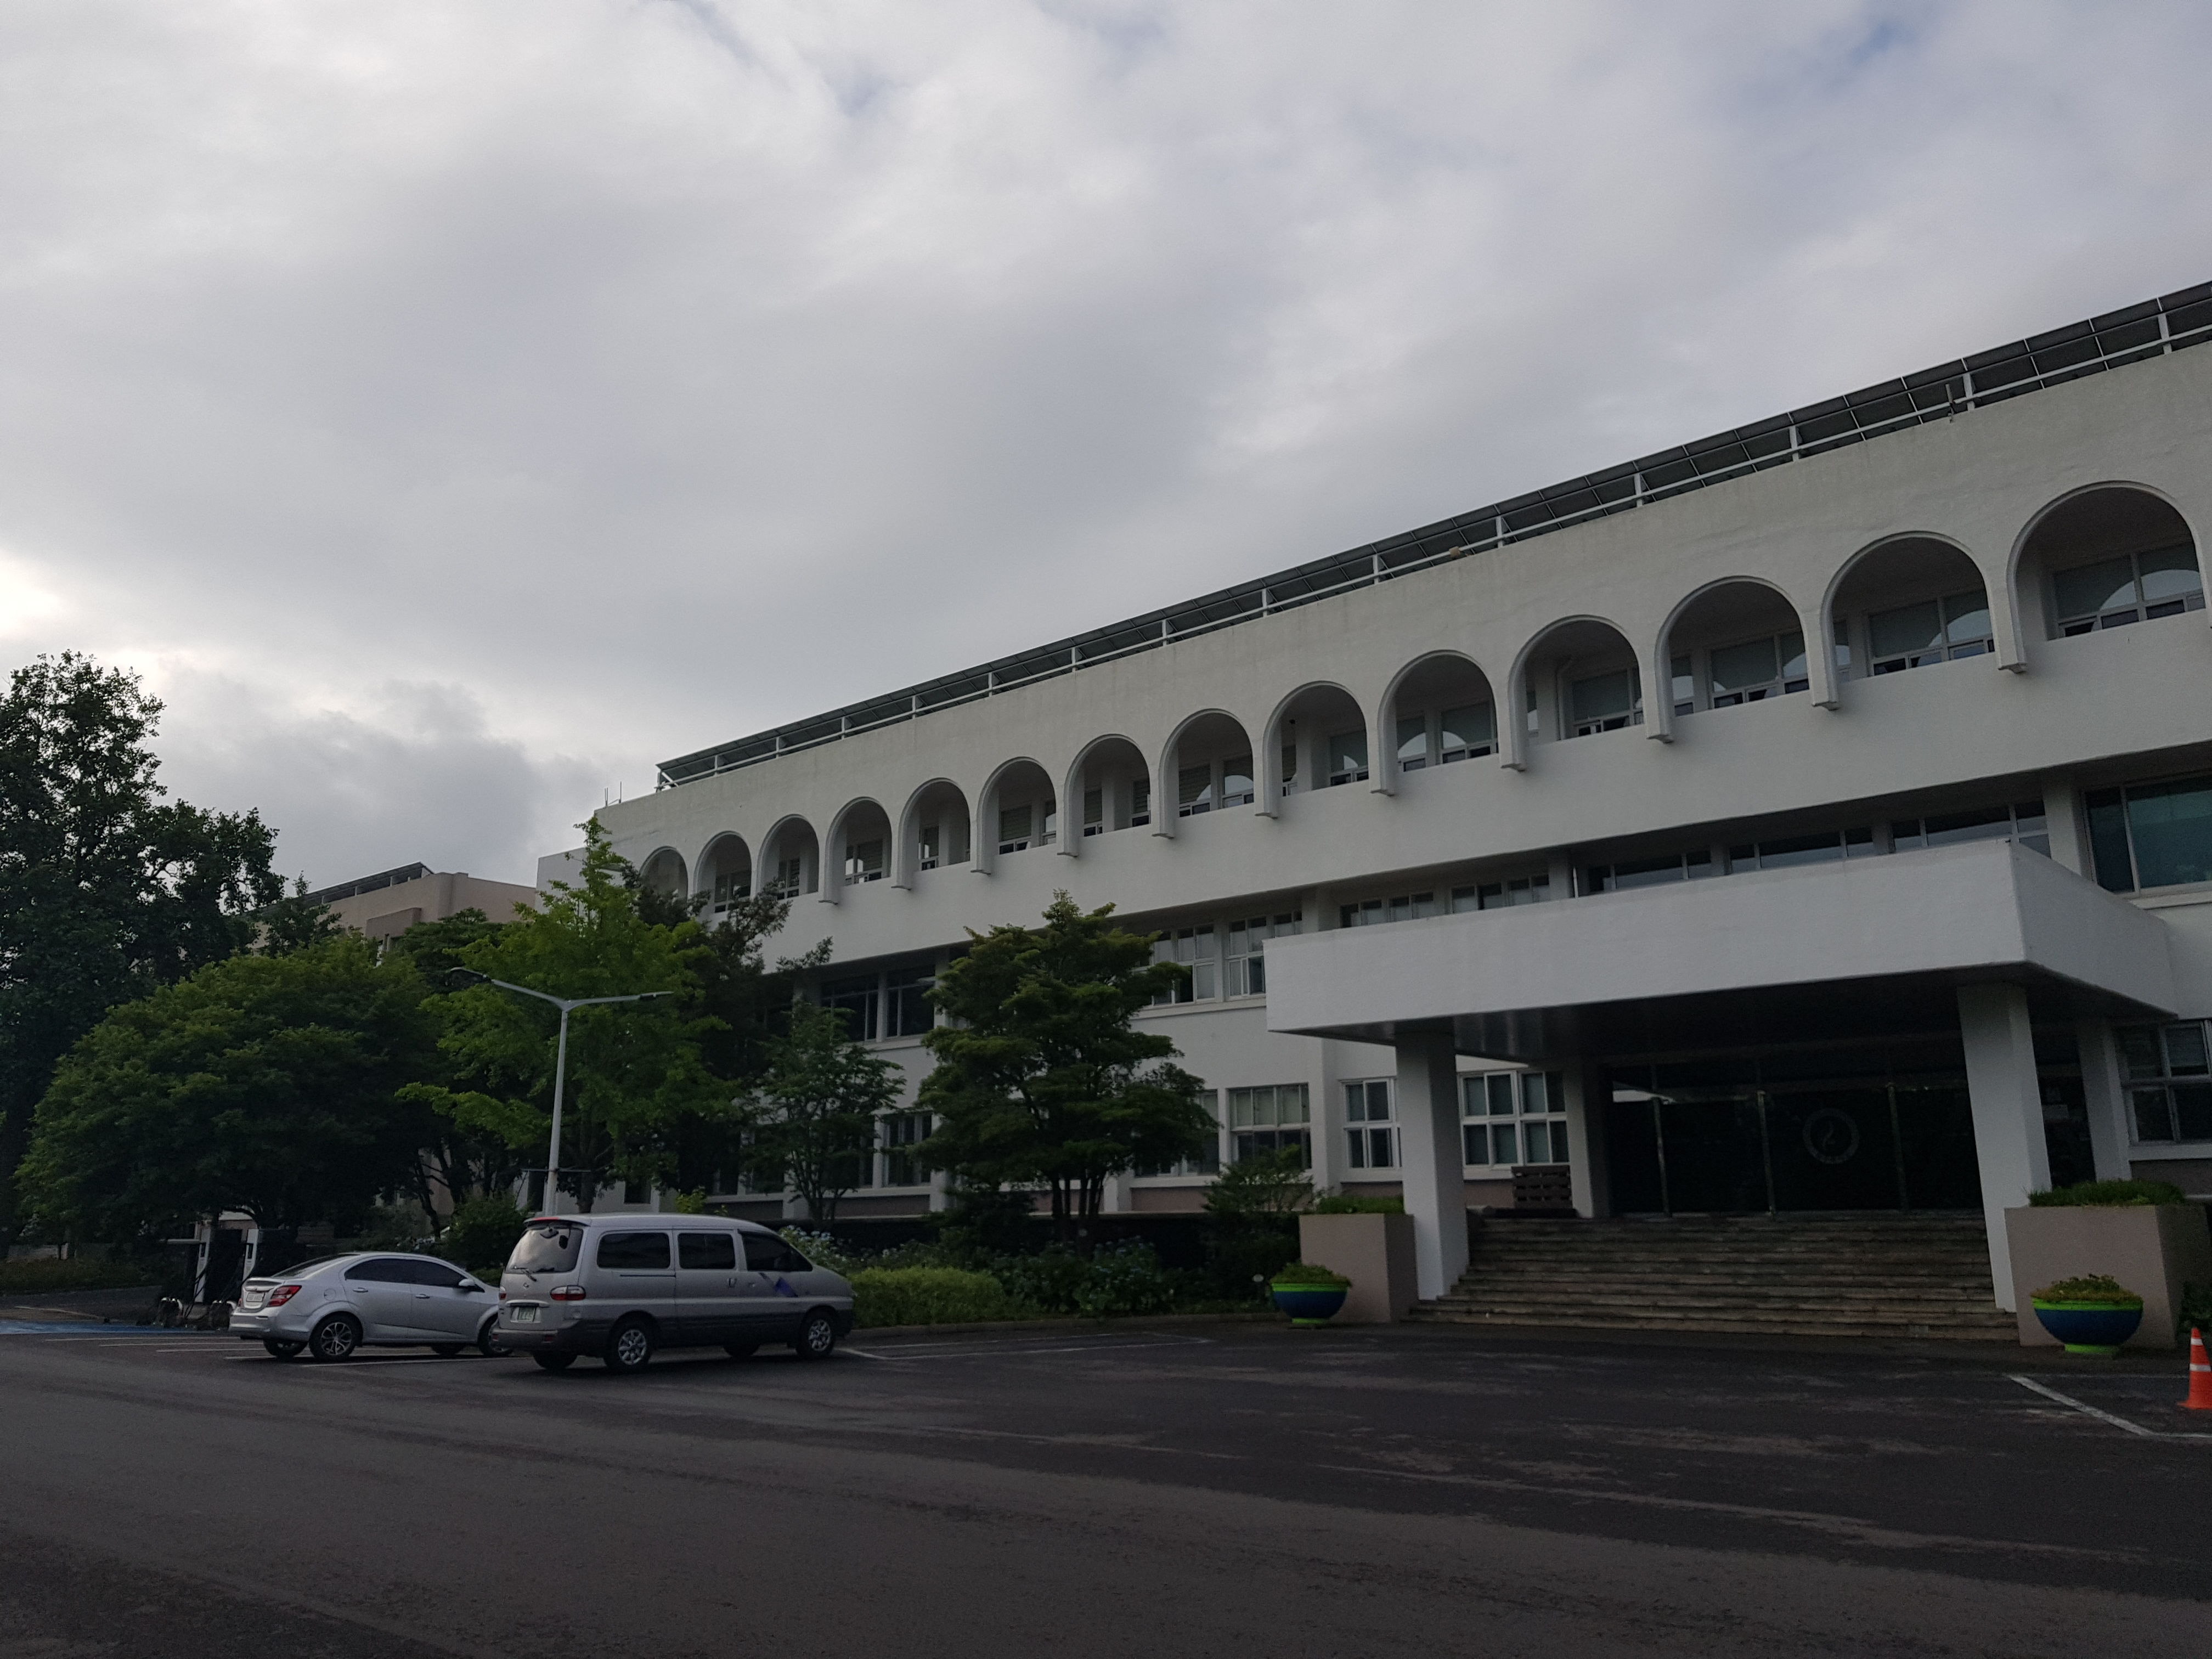Main Building of University: (545, 272, 2165, 1243), (1240, 770, 2141, 1260), (568, 626, 1494, 931), (1493, 455, 2175, 852)
